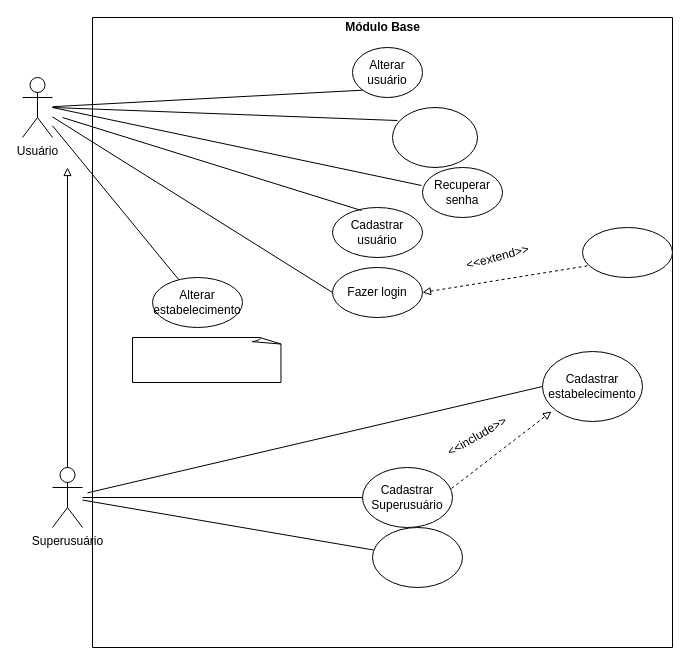
Some shapes in this 690 by 665 pixel diagram are drawn without their labels. Here are the shapes that lost their labels. From the top down, the centre of each, then its label:
the point at 435,137: Excluir usuário
the point at 627,252: Lembrar login
the point at 207,359: Usuário deve ter permissão para alterar
the point at 417,557: Gerir Permissões
